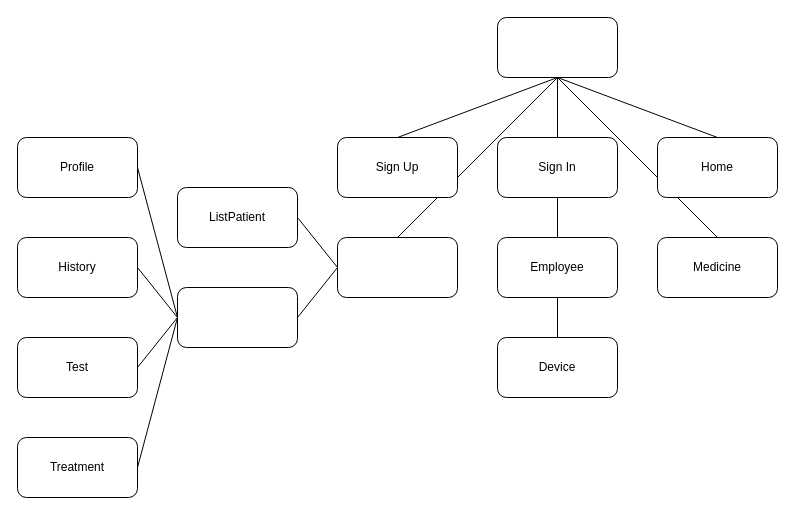
Some shapes in this 795 by 515 pixel diagram are drawn without their labels. The shapes that lost their labels are listed below. From the top down, each one's box as (x1, y1, x2, y2) in pixels, then its label:
(496, 16, 618, 78): Root
(336, 236, 458, 298): Patient
(176, 286, 298, 348): PatientDetail
